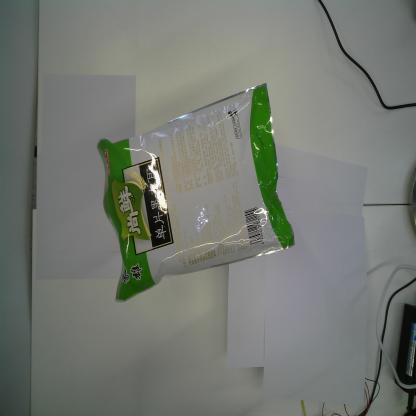Dried Food: (94, 79, 296, 305)
